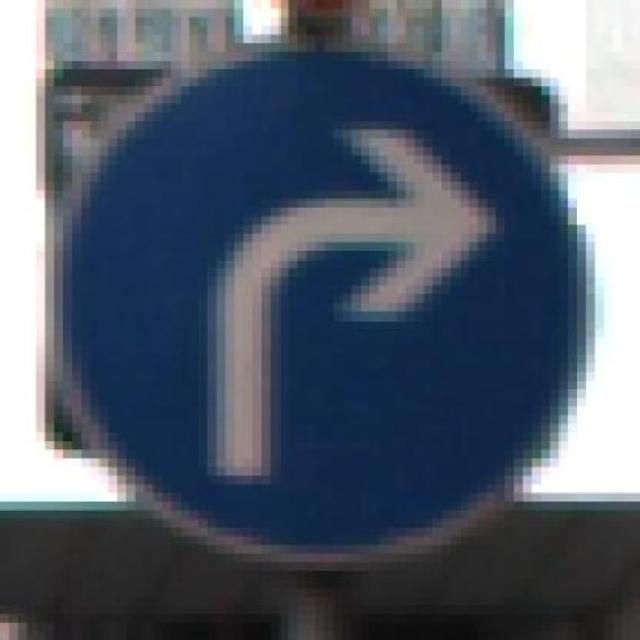Turn right ahead: (27, 34, 613, 572)
